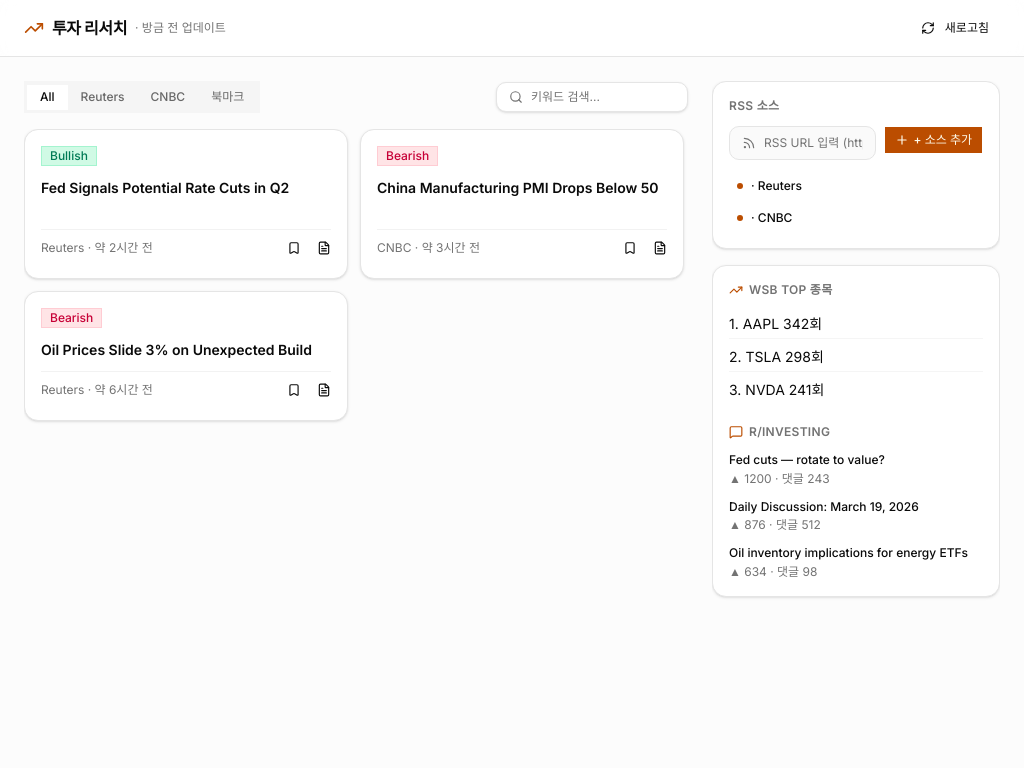
Test case: RSSDASH-003: RSS 소스 추가 — 빈 URL 오류 › 빈 URL 추가 시 오류 메시지가 표시된다
Click the button "+ 소스 추가". click: {"x": 934, "y": 140}
box: [884,126,983,154]
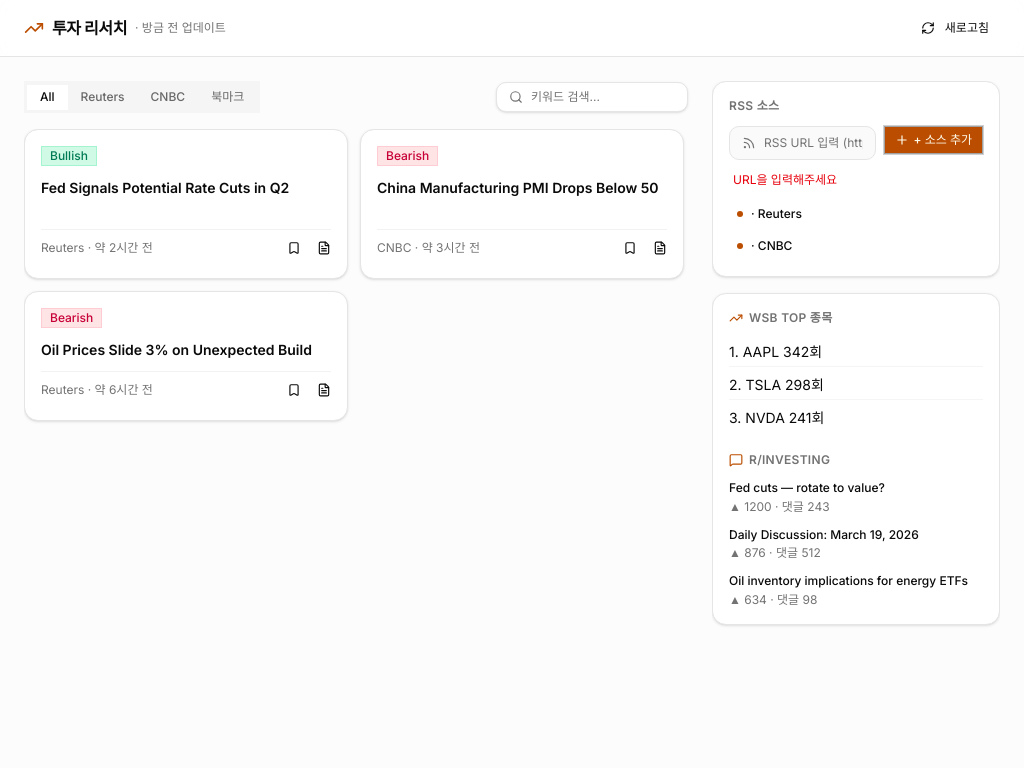
Expected: the text "URL을 입력해주세요" is shown, [733,172,837,187]
